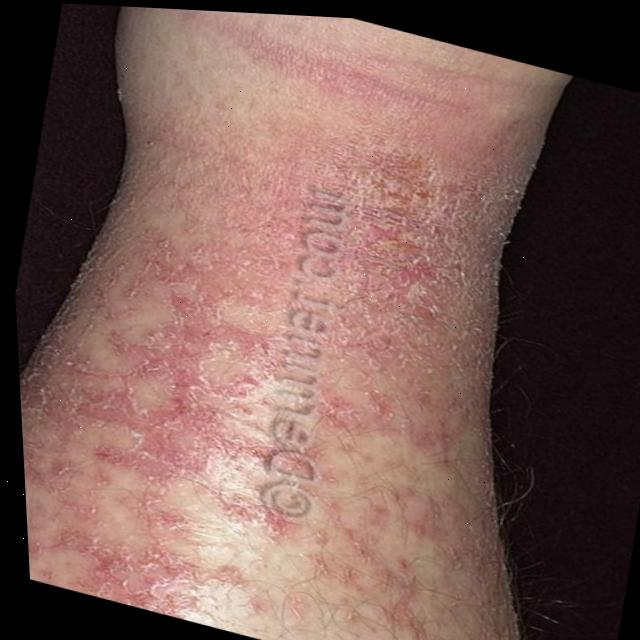Eczema: (46, 88, 524, 640)
